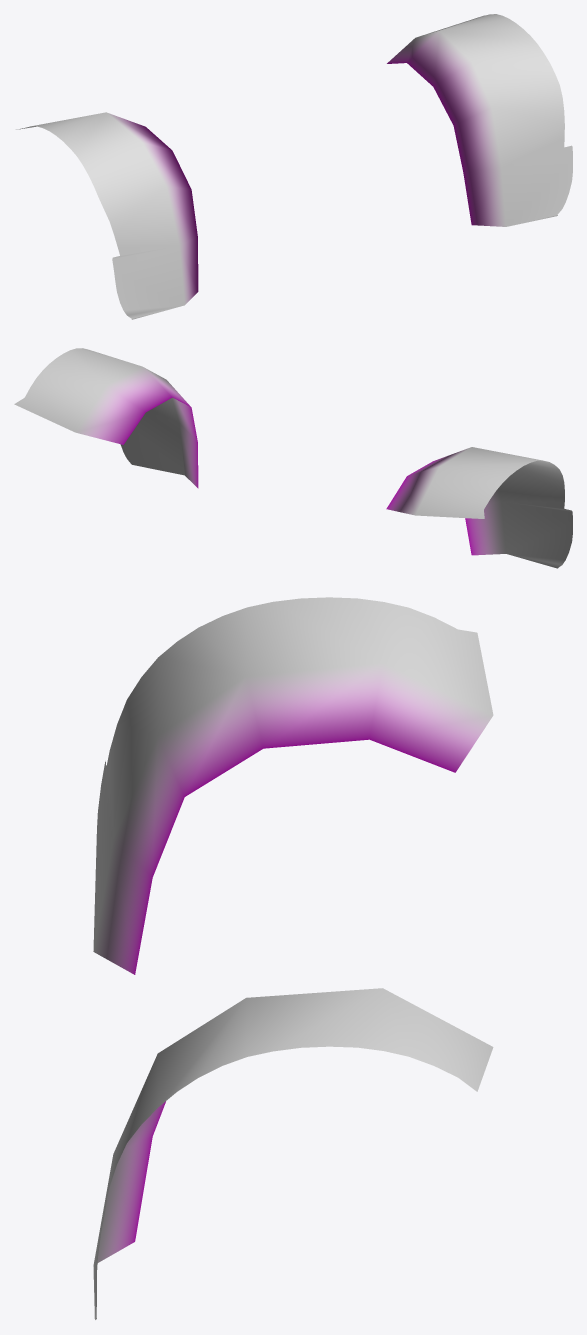
Rendered from Car_Nissan_SkylineGTRVspecR34_1999_FendersChassisR_SetE_AltA.fbx.
3 views of the same model, one above another, from view 1: azimuth 30°, elevation 25°; view 2: azimuth 150°, elevation 25°; view 3: azimuth 270°, elevation 25° (orthographic). The views are drawn at different scales.
Parts seen in each view (by area): view 1: FendersChassisR 5; view 2: FendersChassisR 5; view 3: FendersChassisR 5.
Boxes of the visible parts, box(x1,y1,x2,y2) form: FendersChassisR 5: box(16, 14, 572, 319); FendersChassisR 5: box(14, 348, 572, 568); FendersChassisR 5: box(93, 597, 493, 1319).
Size of the model in its own units: 1.76 by 0.52 by 0.6487.
